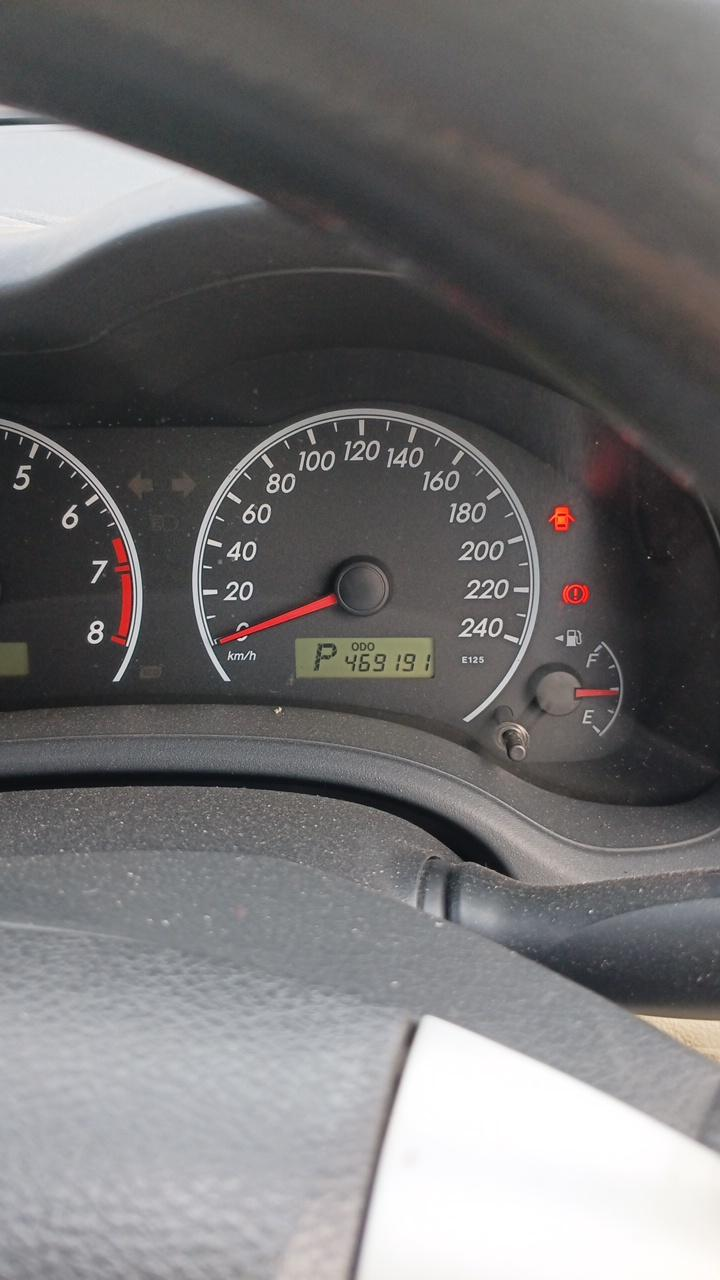1: (424, 654, 431, 672), (395, 654, 402, 671)
4: (344, 654, 357, 671)
6: (358, 653, 370, 672)
9: (402, 653, 416, 672), (373, 654, 386, 672)
X: (313, 642, 338, 672), (367, 642, 375, 651), (352, 642, 359, 651), (360, 642, 366, 651)
odometer: (295, 637, 436, 679)
